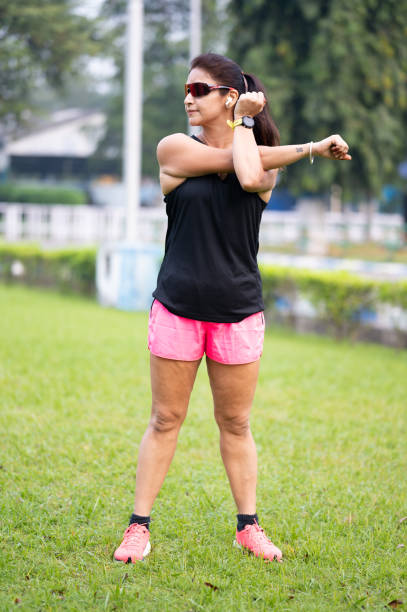Footwear: (88, 518, 167, 568), (231, 516, 290, 564)
